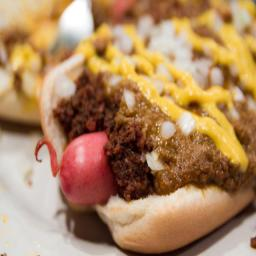hotdog: (34, 50, 256, 252)
